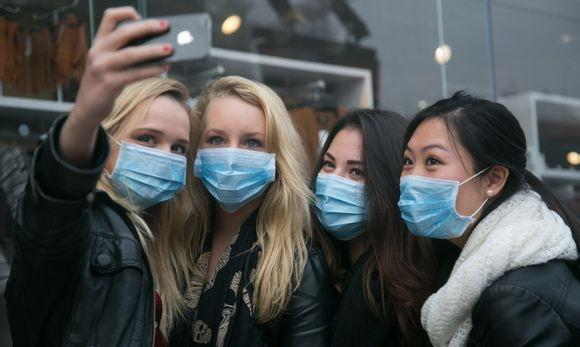OK: (401, 142, 484, 239), (195, 124, 278, 211), (313, 149, 389, 244), (109, 123, 192, 209)
